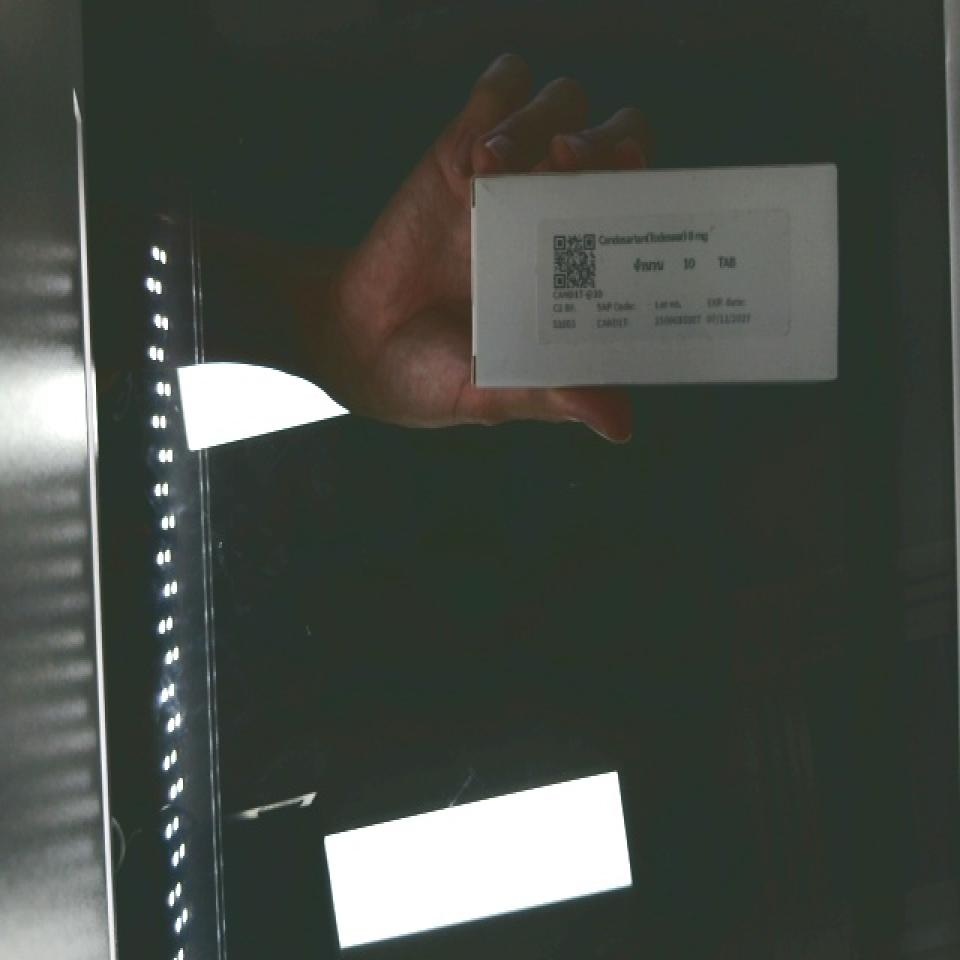medicine_box: (471, 170, 838, 389)
qr_code: (539, 210, 611, 306)
